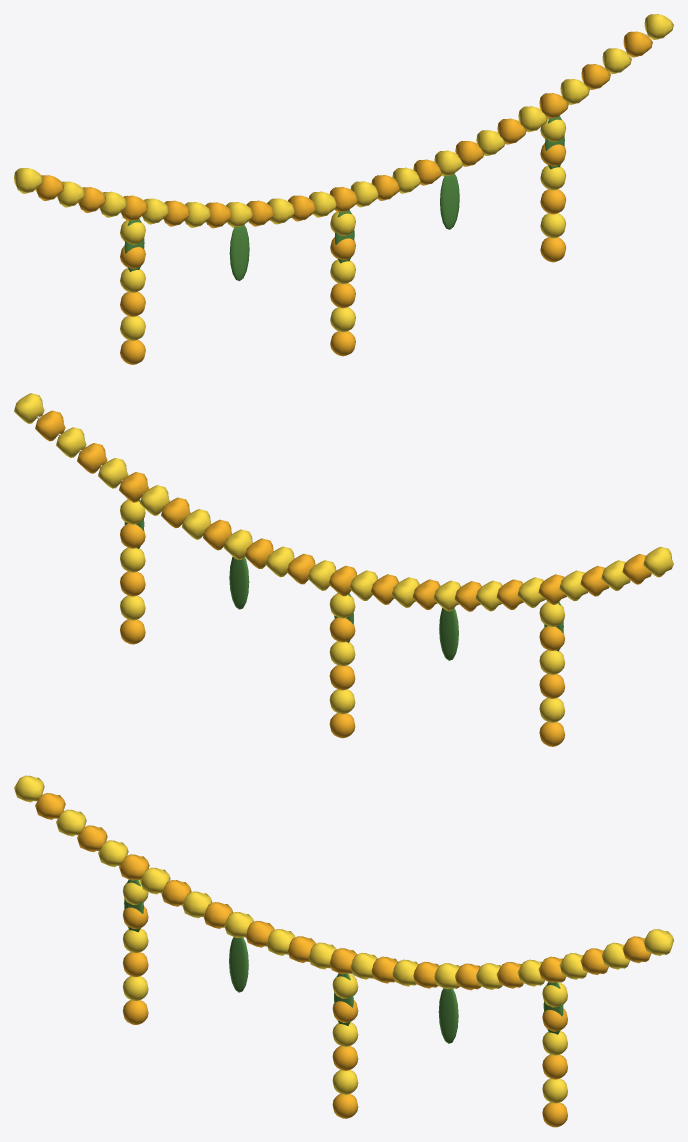
Rendered from marigold_toran.glb.
The picture shows the model from 3 angles, top to bottom: view 1: azimuth 30°, elevation 25°; view 2: azimuth 150°, elevation 25°; view 3: azimuth 330°, elevation 25°; orthographic projection.
Parts seen in each view (by area): view 1: marigold_toran; view 2: marigold_toran; view 3: marigold_toran.
Boxes of the visible parts, x1,y1,x2,y2 form: marigold_toran: (14, 14, 673, 364); marigold_toran: (14, 393, 673, 746); marigold_toran: (14, 775, 673, 1127).
Size of the model in its own units: 1.15 by 0.4434 by 0.0468.
